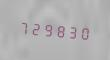eight: (54, 19, 65, 40)
nine: (42, 18, 53, 39)
seven: (17, 16, 28, 37)
three: (66, 21, 77, 41)
two: (29, 17, 40, 38)
zero: (78, 22, 89, 42)
